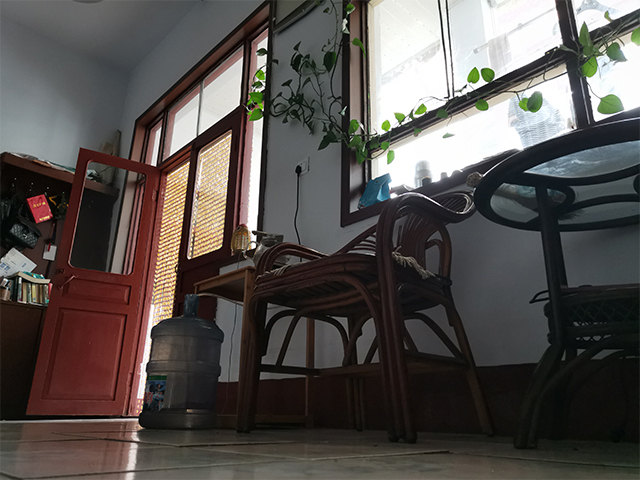cabinet: (1, 149, 123, 421)
stool: (235, 187, 498, 445)
table: (473, 113, 640, 450), (192, 264, 313, 430)
wire: (217, 164, 303, 417)
